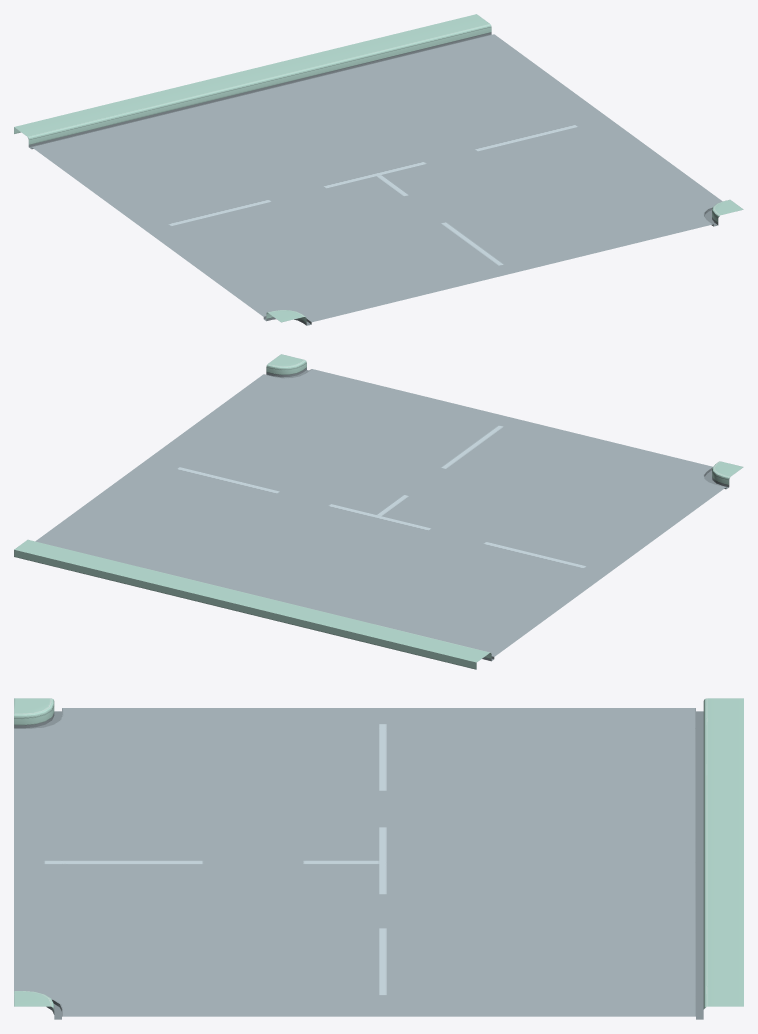
Rendered from 2X2TJoint.fbx.
3 views of the same model, one above another, from view 1: azimuth 30°, elevation 25°; view 2: azimuth 150°, elevation 25°; view 3: azimuth 270°, elevation 25° (orthographic). The views are drawn at different scales.
Parts seen in each view (by area): view 1: pPlane20; view 2: pPlane20; view 3: pPlane20.
Boxes of the visible parts, x1,y1,x2,y2 form: pPlane20: (14,14,743,325); pPlane20: (14,354,743,669); pPlane20: (14,698,743,1019).
Bounding box in the file's own units: 2 × 0.0395 × 2.
Materials: 1 (1 with a texture image).
